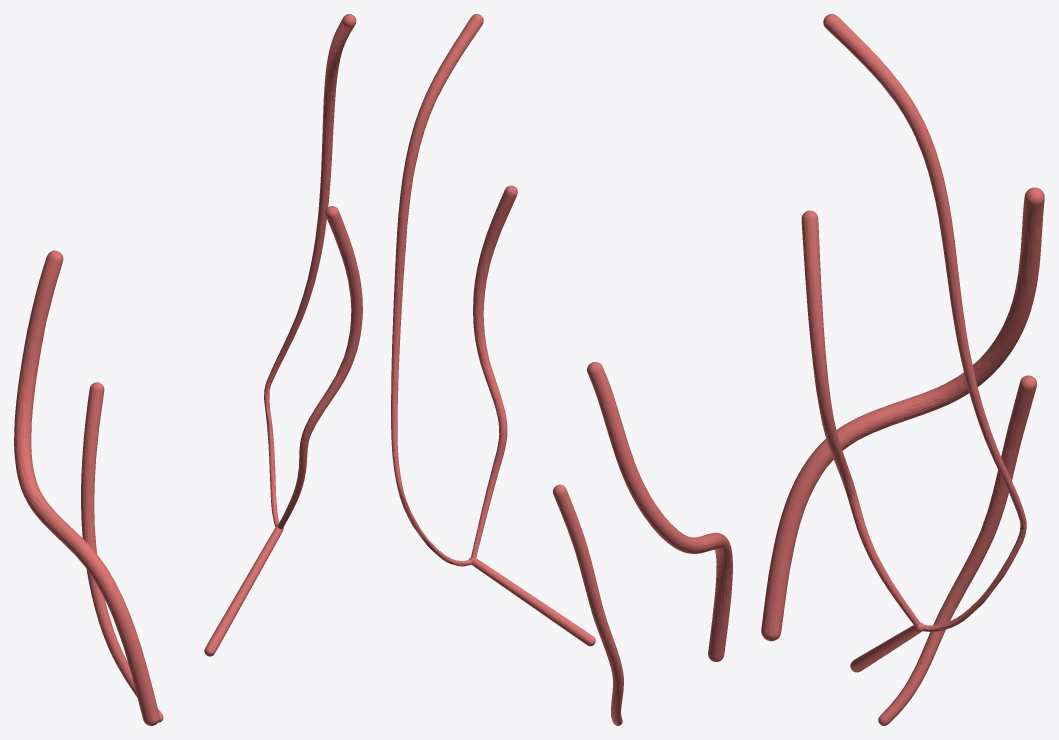
The model's file is elbow-artery.glb.
3 renders of one model, left to right at view 1: azimuth 30°, elevation 25°; view 2: azimuth 150°, elevation 25°; view 3: azimuth 270°, elevation 25°, orthographic. The views are drawn at different scales.
Visible parts, largest first — view 1: radial-recurrent-artery__BP6225, superior-ulnar-collateral-artery__BP6278, interosseous-recurrent-artery__BP6296, inferior-ulnar-collateral-artery__BP6282, anterior-ulnar-recurrent-artery__BP6305, posterior-ulnar-recurrent-artery__BP6303; view 2: radial-recurrent-artery__BP6225, superior-ulnar-collateral-artery__BP6278, inferior-ulnar-collateral-artery__BP6282, interosseous-recurrent-artery__BP6296, anterior-ulnar-recurrent-artery__BP6305, posterior-ulnar-recurrent-artery__BP6303; view 3: radial-recurrent-artery__BP6225, superior-ulnar-collateral-artery__BP6278, interosseous-recurrent-artery__BP6296, inferior-ulnar-collateral-artery__BP6282, posterior-ulnar-recurrent-artery__BP6303, anterior-ulnar-recurrent-artery__BP6305.
Boxes of the visible parts, bbox=[...] form: radial-recurrent-artery__BP6225: bbox=[14, 250, 159, 725]; superior-ulnar-collateral-artery__BP6278: bbox=[266, 14, 356, 383]; interosseous-recurrent-artery__BP6296: bbox=[81, 382, 163, 722]; inferior-ulnar-collateral-artery__BP6282: bbox=[277, 206, 362, 529]; anterior-ulnar-recurrent-artery__BP6305: bbox=[204, 525, 283, 656]; posterior-ulnar-recurrent-artery__BP6303: bbox=[264, 382, 279, 526]; radial-recurrent-artery__BP6225: bbox=[587, 362, 732, 661]; superior-ulnar-collateral-artery__BP6278: bbox=[391, 14, 483, 482]; inferior-ulnar-collateral-artery__BP6282: bbox=[471, 185, 517, 558]; interosseous-recurrent-artery__BP6296: bbox=[553, 484, 623, 725]; anterior-ulnar-recurrent-artery__BP6305: bbox=[469, 557, 595, 646]; posterior-ulnar-recurrent-artery__BP6303: bbox=[396, 481, 472, 566]; radial-recurrent-artery__BP6225: bbox=[761, 187, 1044, 641]; superior-ulnar-collateral-artery__BP6278: bbox=[823, 14, 1026, 522]; interosseous-recurrent-artery__BP6296: bbox=[878, 375, 1036, 725]; inferior-ulnar-collateral-artery__BP6282: bbox=[801, 210, 920, 626]; posterior-ulnar-recurrent-artery__BP6303: bbox=[922, 521, 1026, 631]; anterior-ulnar-recurrent-artery__BP6305: bbox=[850, 622, 923, 672].
Bounding box in the file's own units: 0.6169 × 1.31 × 0.4166.
